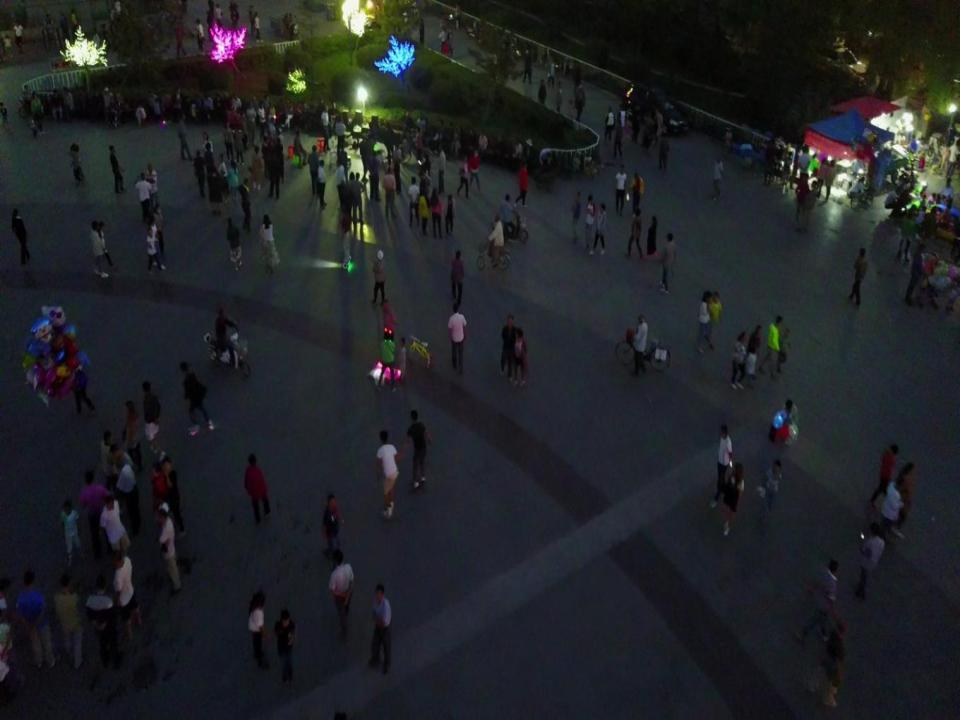car: (621, 79, 691, 139)
